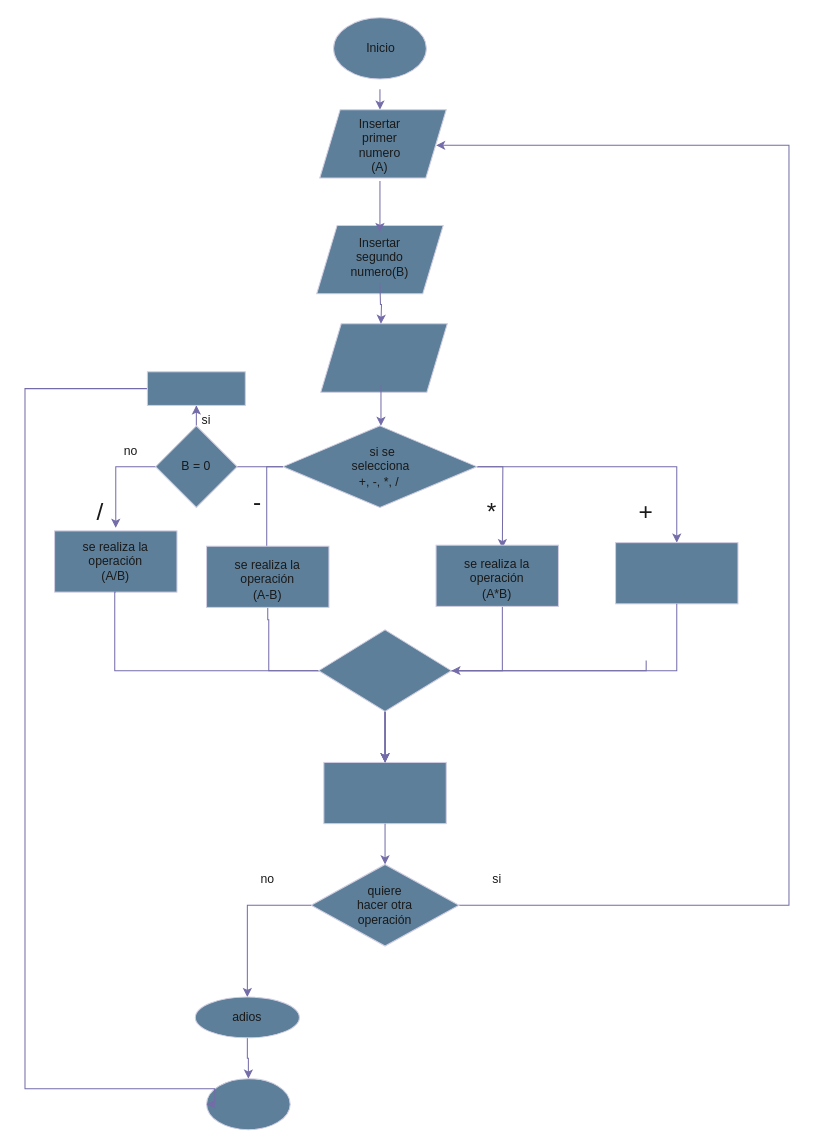
This 815x1148 diagram has some shape labels left out. Each missing label, with the centre of its shape:
"Fin" goes at (248,1104).
"mostrar mensaje error" goes at (195,388).
"Mostrar resultado en pantalla" goes at (384,792).
"se realiza la operación (A+B)" goes at (676,573).
"Selecciona operacion matimatica (+,-*?" goes at (383,357).
